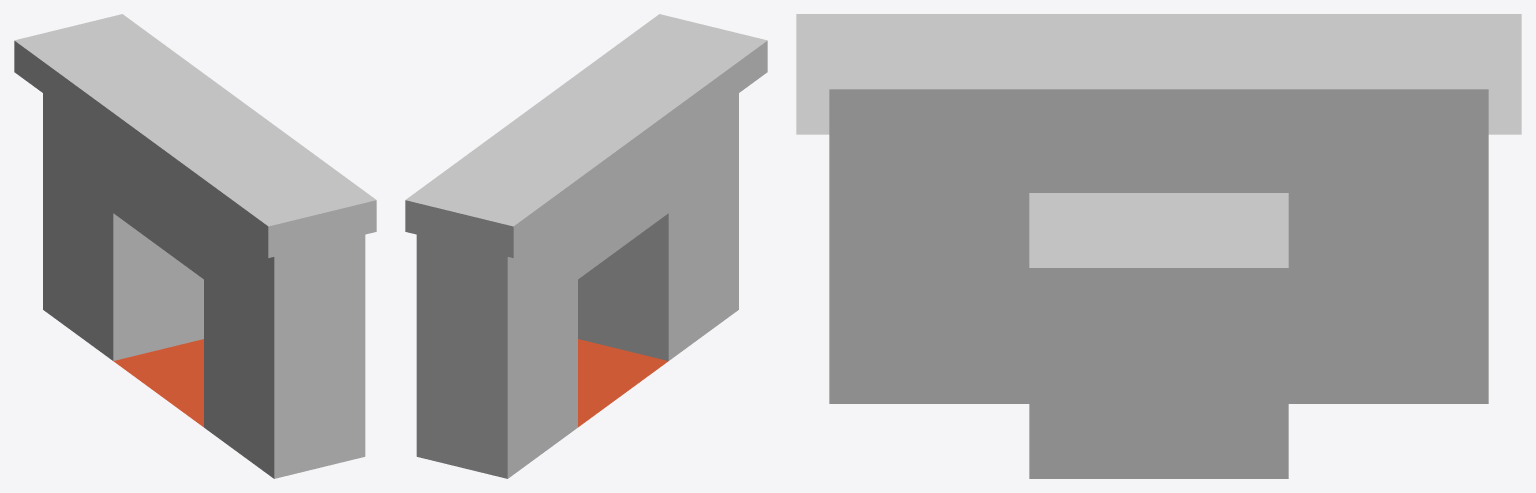
The model's file is Fireplace.fbx.
The picture shows the model from 3 angles, left to right: view 1: azimuth 30°, elevation 25°; view 2: azimuth 150°, elevation 25°; view 3: azimuth 270°, elevation 25°; orthographic projection. The views are drawn at different scales.
Parts seen in each view (by area): view 1: Fireplace; view 2: Fireplace; view 3: Fireplace.
Part boxes in pixels (x1,y1,x2,y2): Fireplace: (14,14,376,478); Fireplace: (405,14,767,478); Fireplace: (796,14,1521,478).
Bounding box in the file's own units: 55.79 × 113 × 197.
